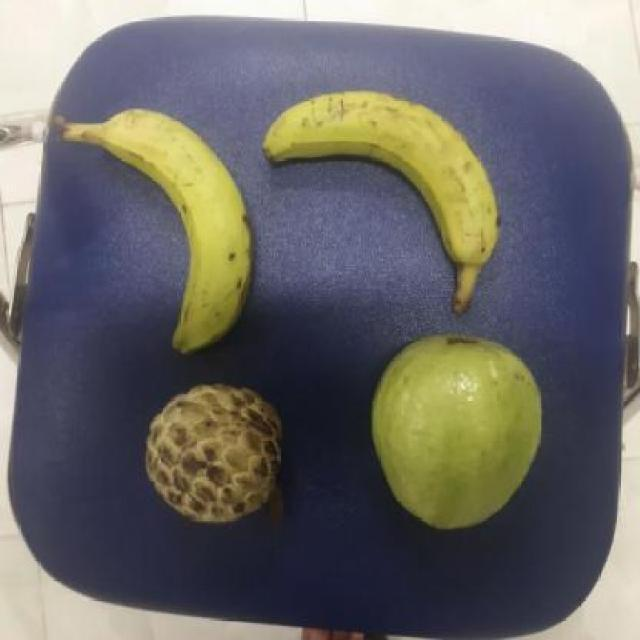banana: (251, 84, 504, 276), (87, 103, 255, 360)
guava: (362, 326, 545, 529)
sugar apple: (139, 377, 288, 525)
